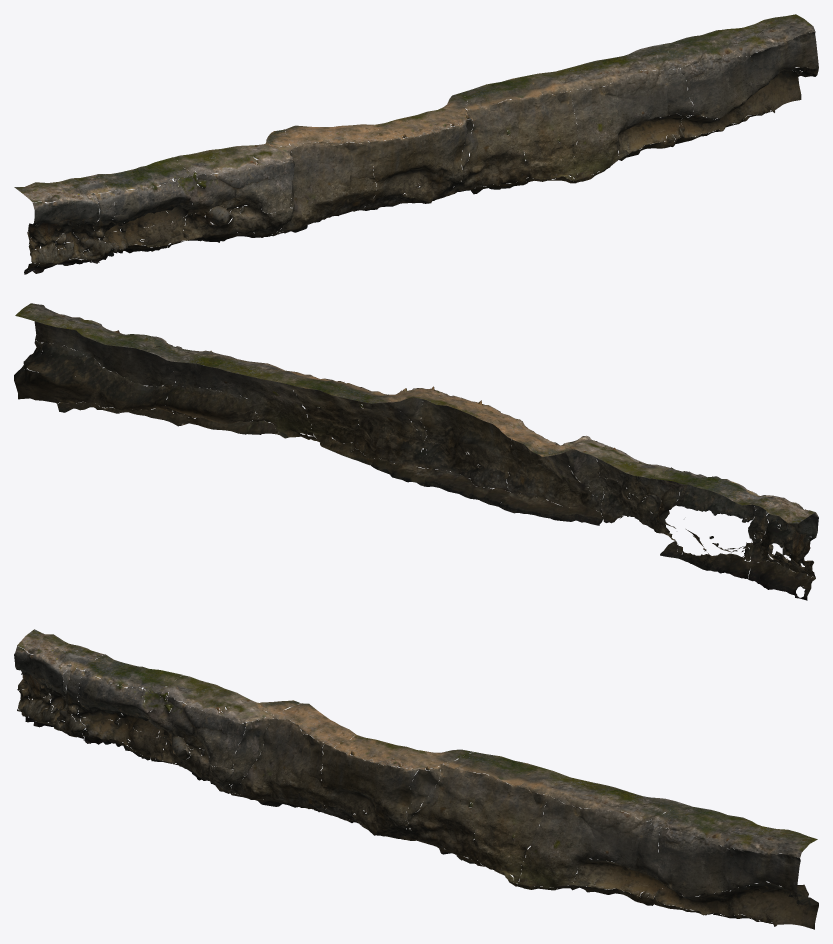
File: coastal_cliff_01_LOD1.fbx
The picture shows the model from 3 angles, top to bottom: view 1: azimuth 30°, elevation 25°; view 2: azimuth 150°, elevation 25°; view 3: azimuth 330°, elevation 25°; orthographic projection. The views are drawn at different scales.
Parts seen in each view (by area): view 1: coastal_cliff_01.001; view 2: coastal_cliff_01.001; view 3: coastal_cliff_01.001.
Part boxes in pixels (<box>): coastal_cliff_01.001: <box>14,14,818,274</box>; coastal_cliff_01.001: <box>14,303,818,600</box>; coastal_cliff_01.001: <box>14,629,818,929</box>.
Bounding box in the file's own units: 92.01 × 10.26 × 10.99.
Materials: 1 (1 with a texture image).
